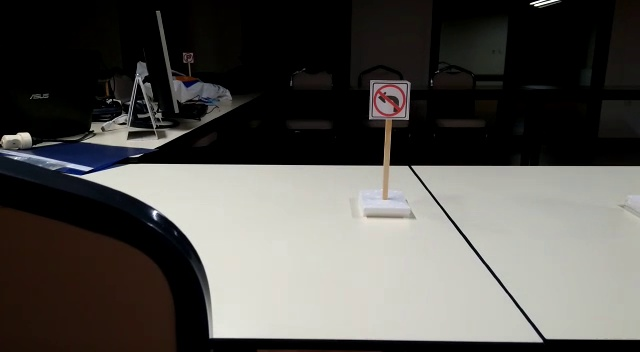sola_donulmez: (366, 77, 411, 117)
